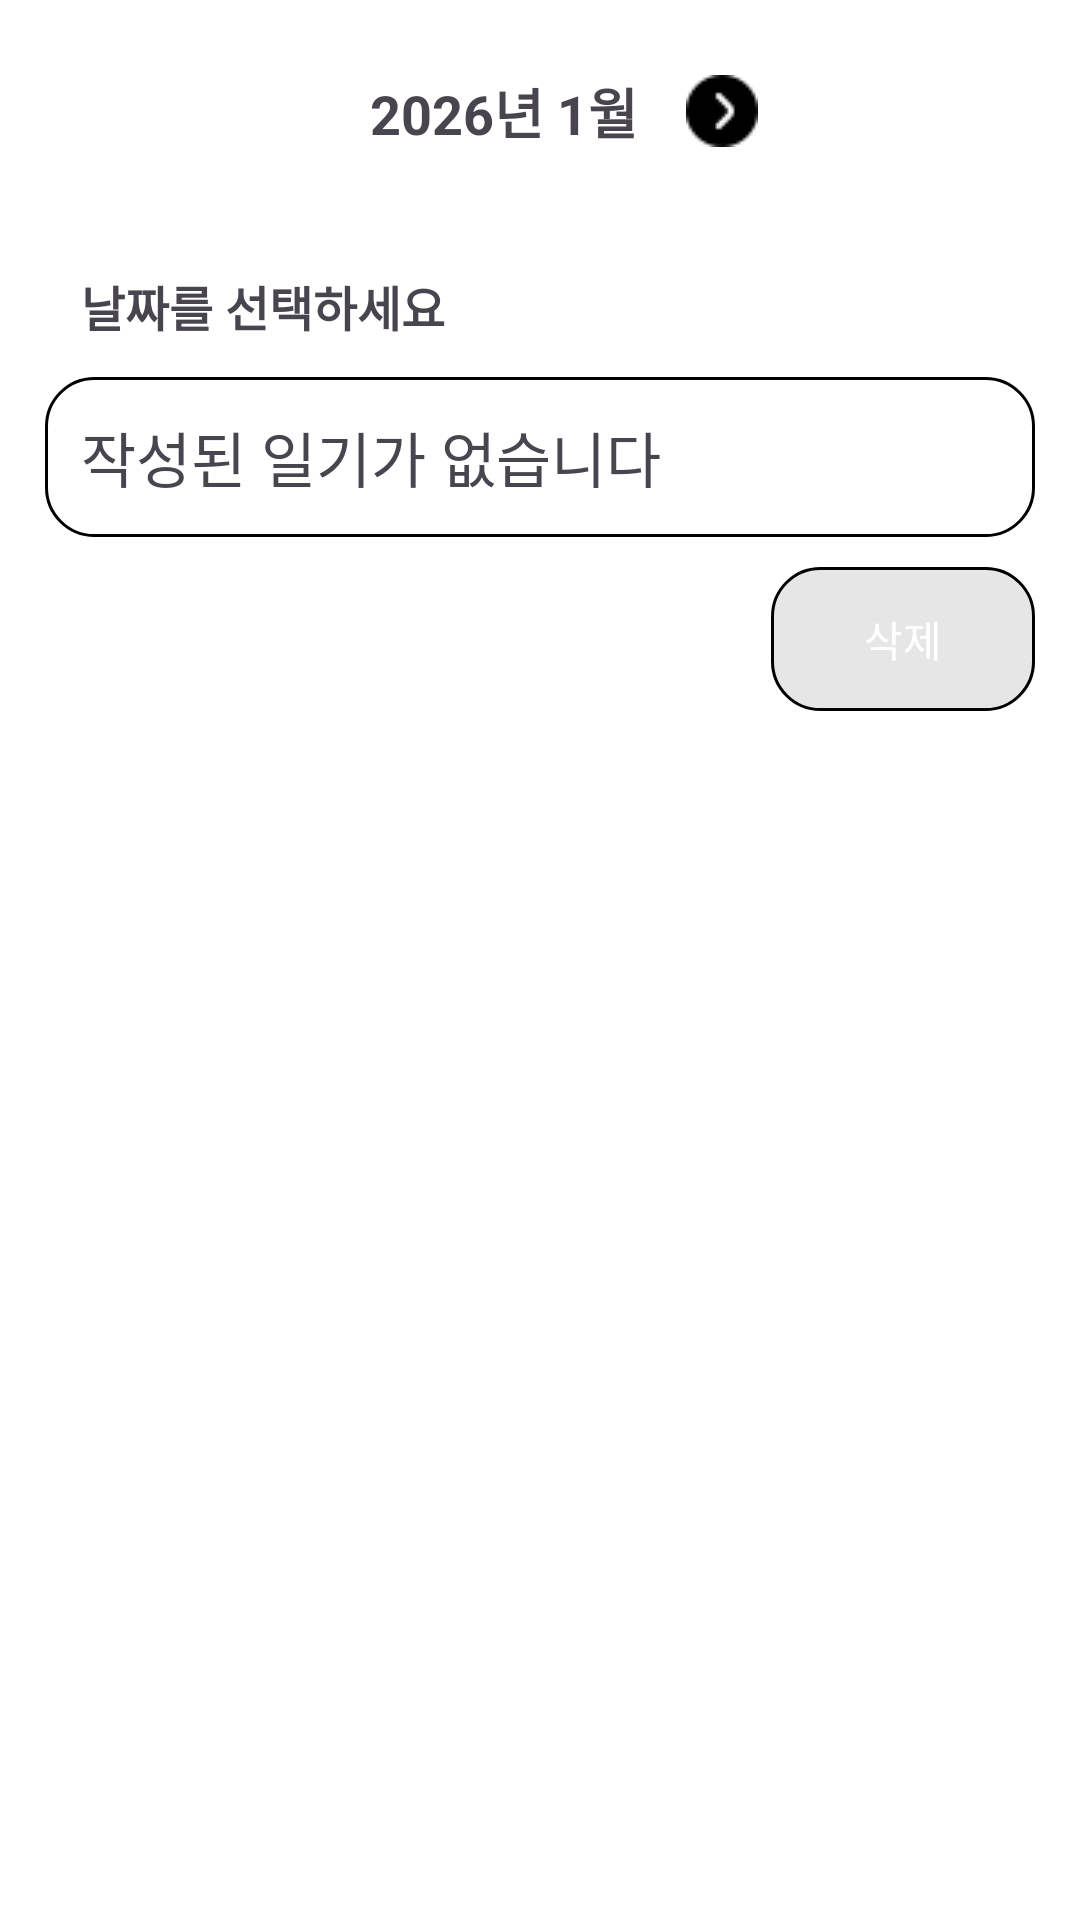

Icon click points for this 1080 x 1920 phone screenshot, format point (x, y):
month right: point (722, 111)
